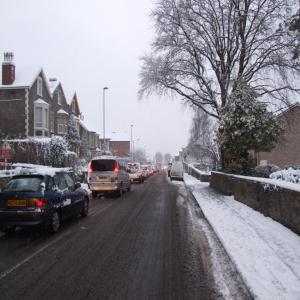Vehicle-registration-plate: (8, 200, 27, 208), (100, 177, 109, 178)
